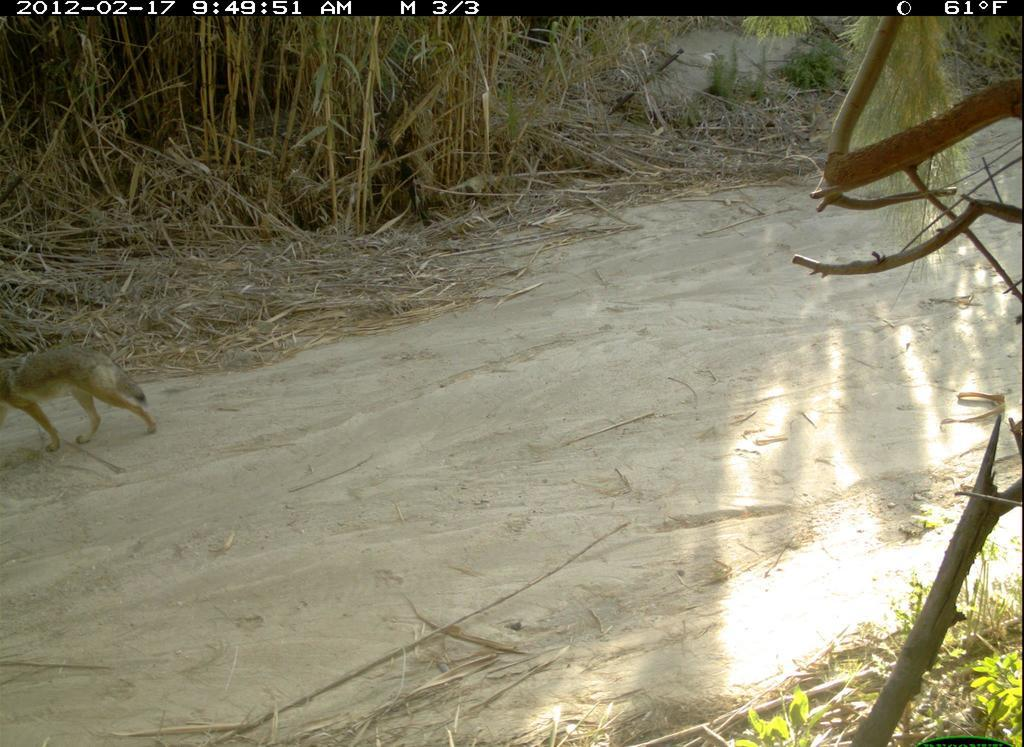coyote: (2, 338, 169, 456)
